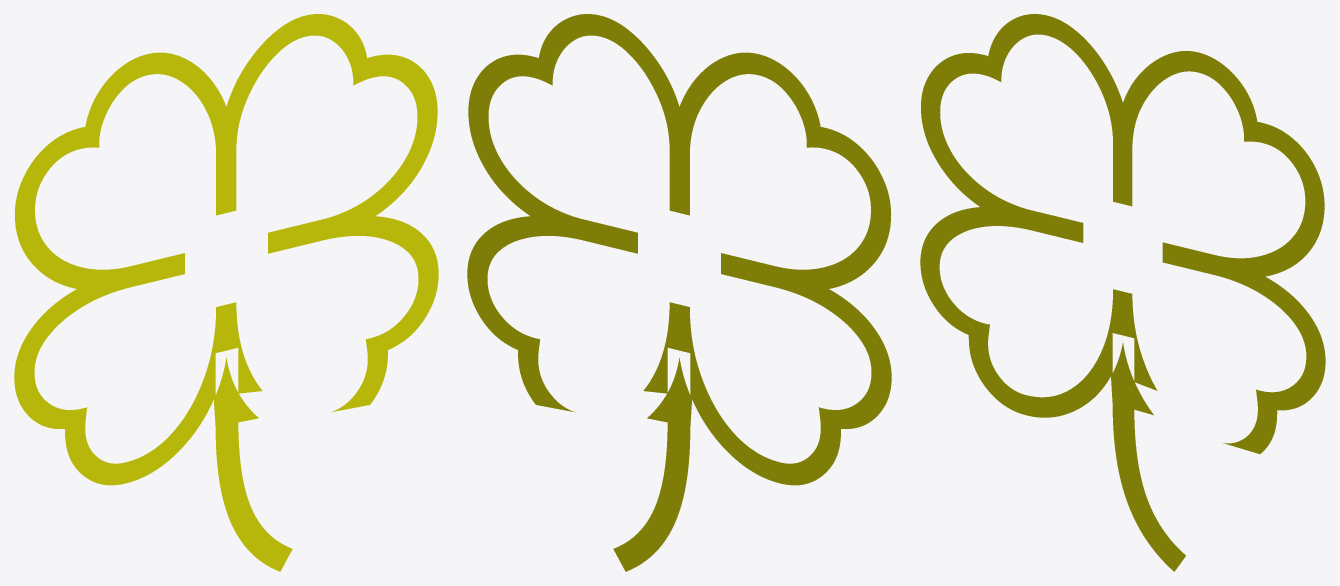
3 views of the same model, side by side, from view 1: azimuth 30°, elevation 25°; view 2: azimuth 150°, elevation 25°; view 3: azimuth 330°, elevation 25° (orthographic). The views are drawn at different scales.
Parts seen in each view (by area): view 1: Text.539_539; view 2: Text.539_539; view 3: Text.539_539.
Part boxes in pixels (x1,y1,x2,y2): Text.539_539: [14, 14, 438, 571]; Text.539_539: [467, 14, 891, 571]; Text.539_539: [920, 14, 1325, 571].
Bounding box in the file's own units: 0.82 × 1.02 × 3.6e-06.
